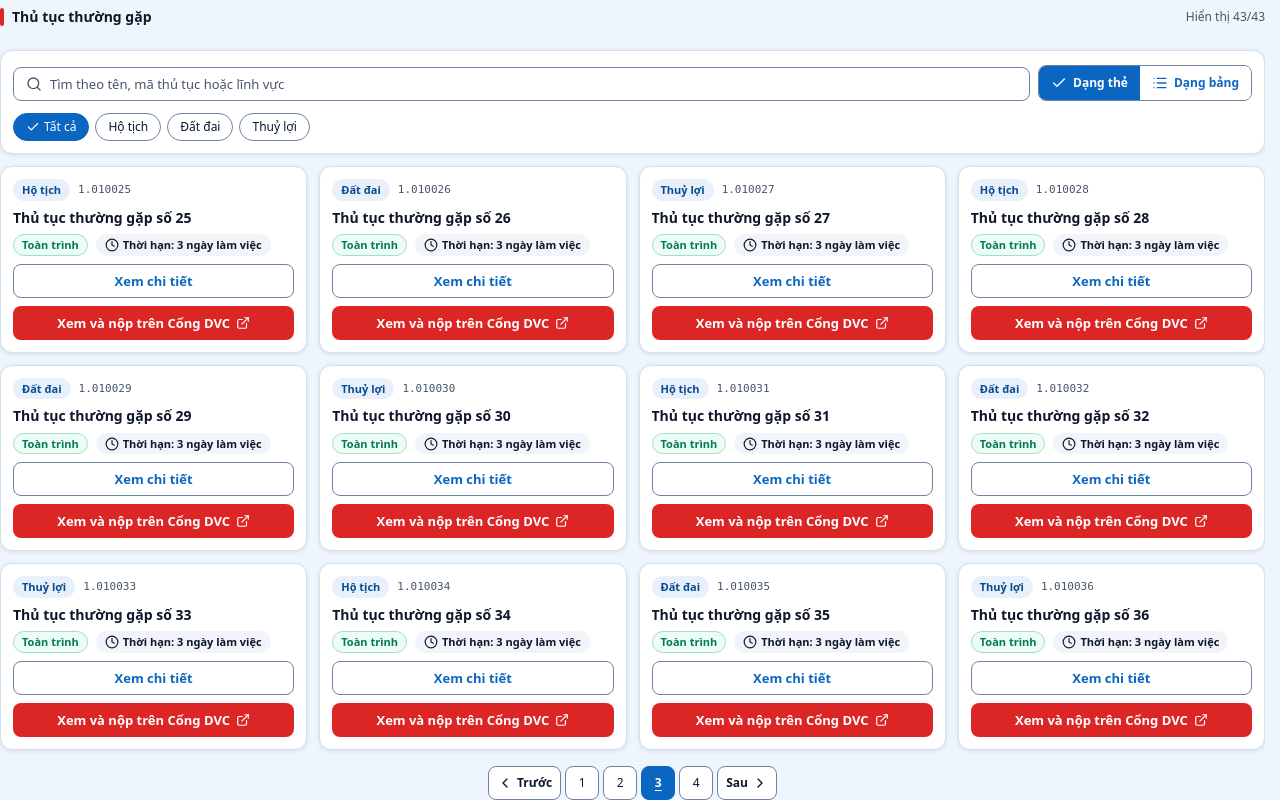
KhoiThuongGap: phân trang và địa chỉ › ở trang 3 chọn chip khác → về trang 1 (AC-13)
Check: the heading "Thủ tục thường gặp" is shown, box [12,8,152,26]
Click the button "Hộ tịch".
click(128, 127)  # box [95,113,161,141]
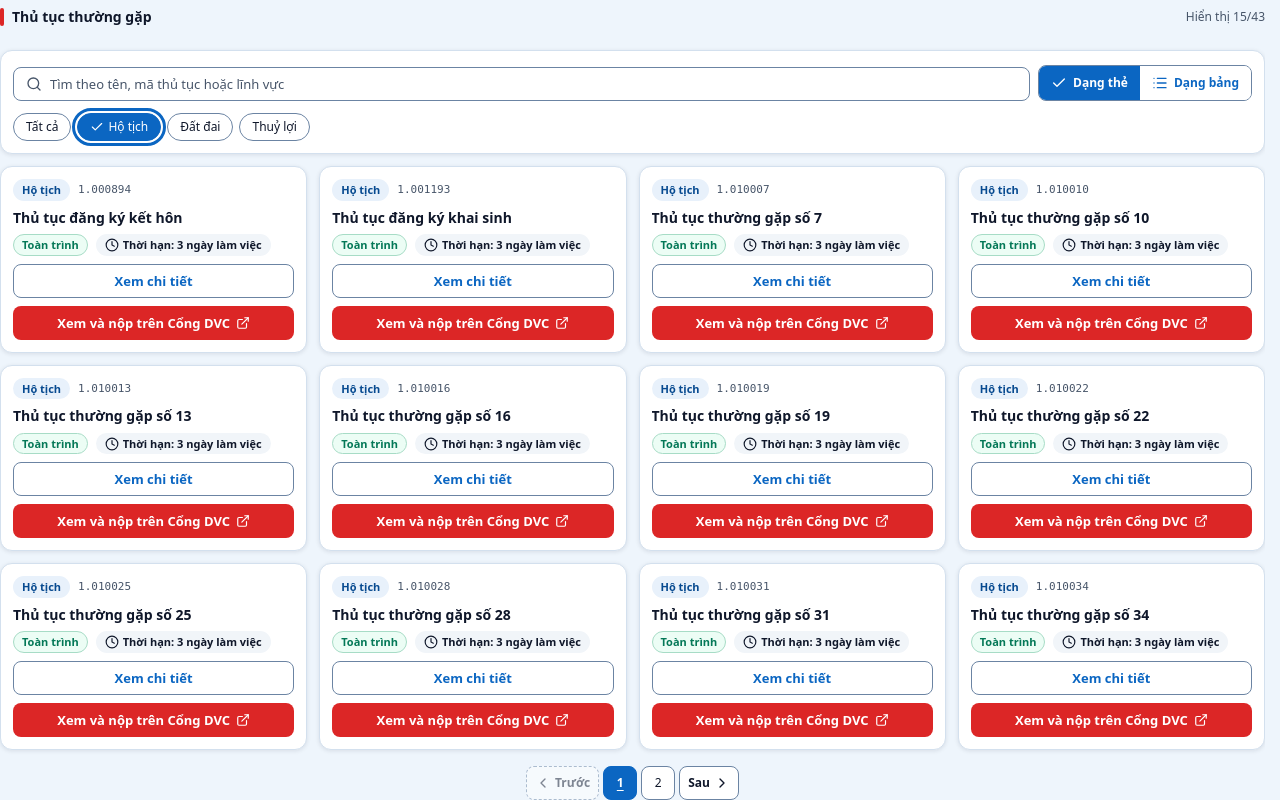
Check: the heading "Thủ tục đăng ký kết hôn" is shown, box [13,208,182,227]
